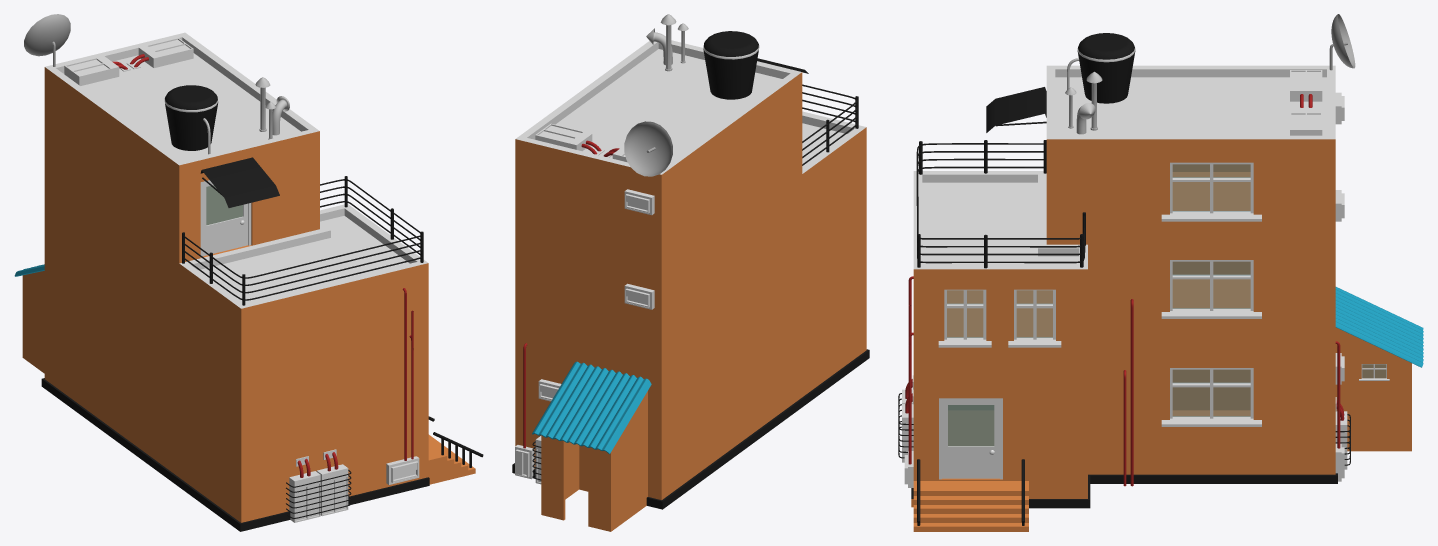
File: House6.fbx
3 views of the same model, side by side, from view 1: azimuth 30°, elevation 25°; view 2: azimuth 150°, elevation 25°; view 3: azimuth 270°, elevation 25° (orthographic). The views are drawn at different scales.
Parts seen in each view (by area): view 1: House6:pCube84, pCylinder11, House6:polySurface13, pPlane3, pCube85, pCylinder18, pCylinder17, pSphere3, pCylinder3, pCylinder4, House6:pCylinder23, pCube64 (+4 smaller); view 2: House6:pCube84, pCube85, pCube81, pCylinder11, pSphere3, pCylinder3, pCube72, pCube73, pCube75; view 3: House6:pCube84, pCube85, House6:polySurface12, pCube81, polySurface8, polySurface5, polySurface11, pCylinder11, pCube71, pPlane3, pCube69, polySurface14 (+23 smaller).
Boxes of the visible parts, bbox=[...] form: House6:pCube84: bbox=[41, 32, 429, 531]; pCylinder11: bbox=[164, 85, 218, 150]; House6:polySurface13: bbox=[200, 180, 251, 257]; pPlane3: bbox=[200, 157, 279, 207]; pCube85: bbox=[22, 271, 44, 373]; pCylinder18: bbox=[289, 456, 320, 522]; pCylinder17: bbox=[316, 449, 348, 516]; pSphere3: bbox=[24, 14, 70, 56]; pCylinder3: bbox=[126, 37, 193, 69]; pCylinder4: bbox=[64, 56, 130, 85]; House6:pCylinder23: bbox=[286, 470, 351, 518]; pCube64: bbox=[386, 456, 419, 484]; House6:pCube84: bbox=[514, 40, 869, 509]; pCube85: bbox=[541, 391, 647, 531]; pCube81: bbox=[532, 361, 651, 454]; pCylinder11: bbox=[703, 31, 759, 99]; pSphere3: bbox=[624, 121, 672, 176]; pCylinder3: bbox=[535, 123, 604, 155]; pCube72: bbox=[624, 189, 654, 215]; pCube73: bbox=[624, 283, 654, 309]; pCube75: bbox=[515, 445, 534, 479]; House6:pCube84: bbox=[911, 65, 1337, 507]; pCube85: bbox=[1335, 327, 1411, 451]; House6:polySurface12: bbox=[939, 398, 1002, 479]; pCube81: bbox=[1335, 287, 1423, 367]; polySurface8: bbox=[1172, 261, 1250, 308]; polySurface5: bbox=[1172, 369, 1250, 416]; polySurface11: bbox=[1172, 164, 1250, 211]; pCylinder11: bbox=[1077, 33, 1135, 103]; pCube71: bbox=[1090, 474, 1337, 483]; pPlane3: bbox=[986, 87, 1046, 132]; pCube69: bbox=[913, 481, 1028, 495]; polySurface14: bbox=[1016, 290, 1052, 337].
Bounding box in the file's own units: 11.09 × 15.07 × 18.09.
